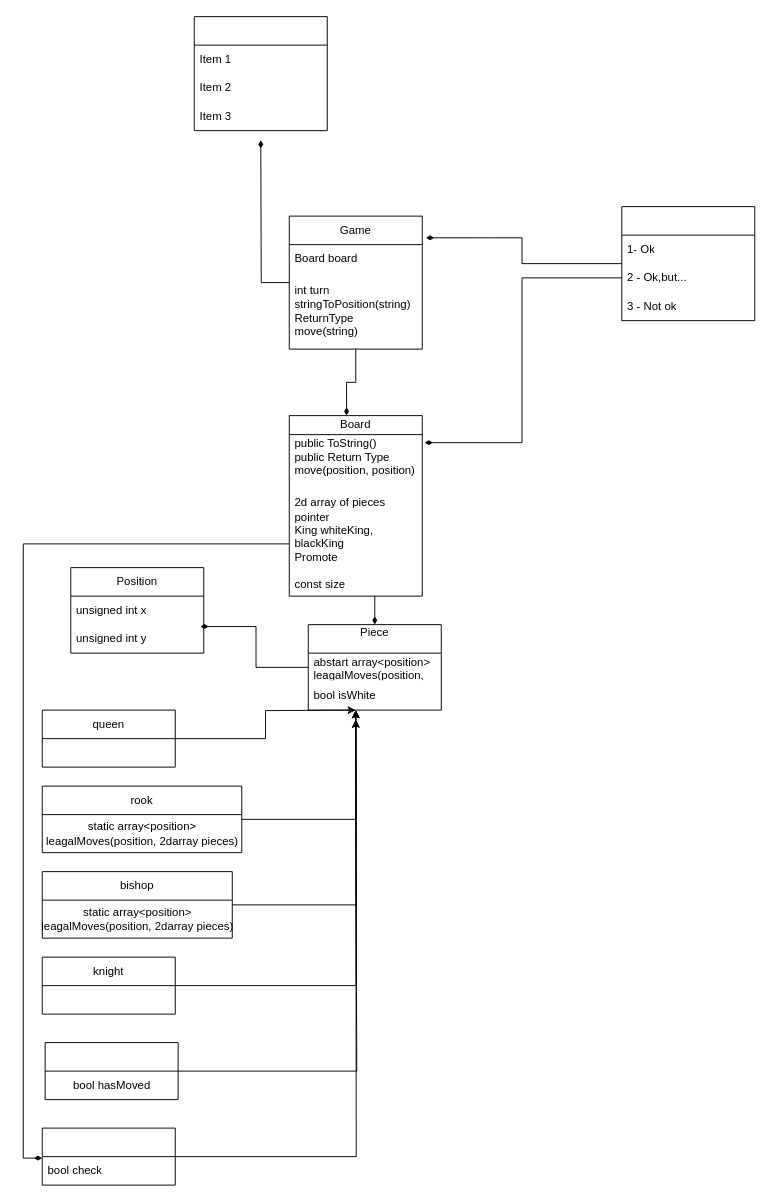
This 771x1202 diagram has some shape labels left out. The shapes that lost their labels are listed below. From the top down, each one's box as (x1, y1, x2, y2) in pixels, then its label:
(193, 16, 327, 131): GameInterface
(621, 206, 755, 321): Enum ReturnType
(44, 1042, 178, 1100): pawn
(41, 1127, 175, 1185): king
